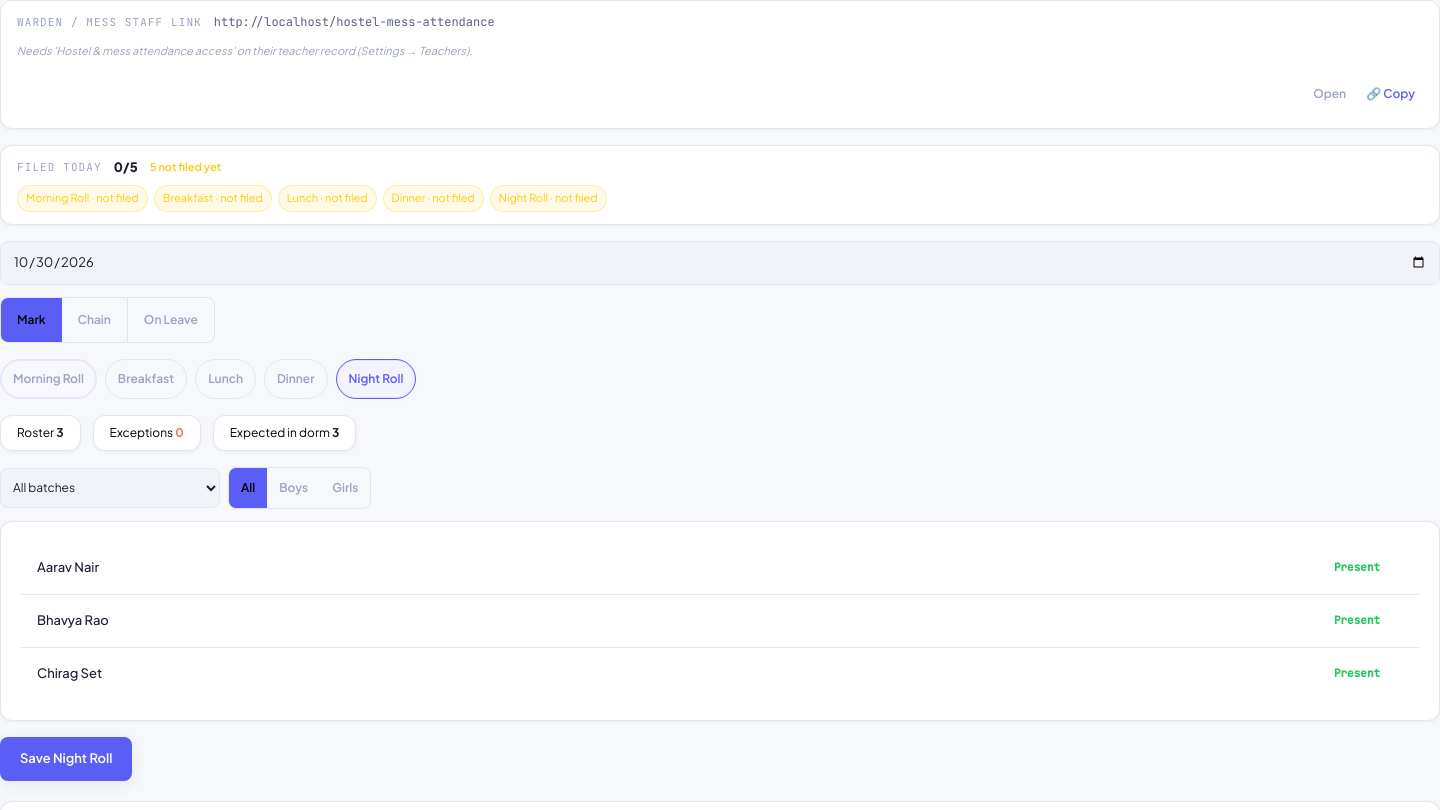
Test: HostelTab — on-leave panel › shows an empty state when no boarder is on leave
This screenshot has width=1440, height=810.
Check: the button "Aarav Nair" is shown, box [37,558,99,577]
Click the button "On Leave" at (170, 320), box [127,298,214,342]
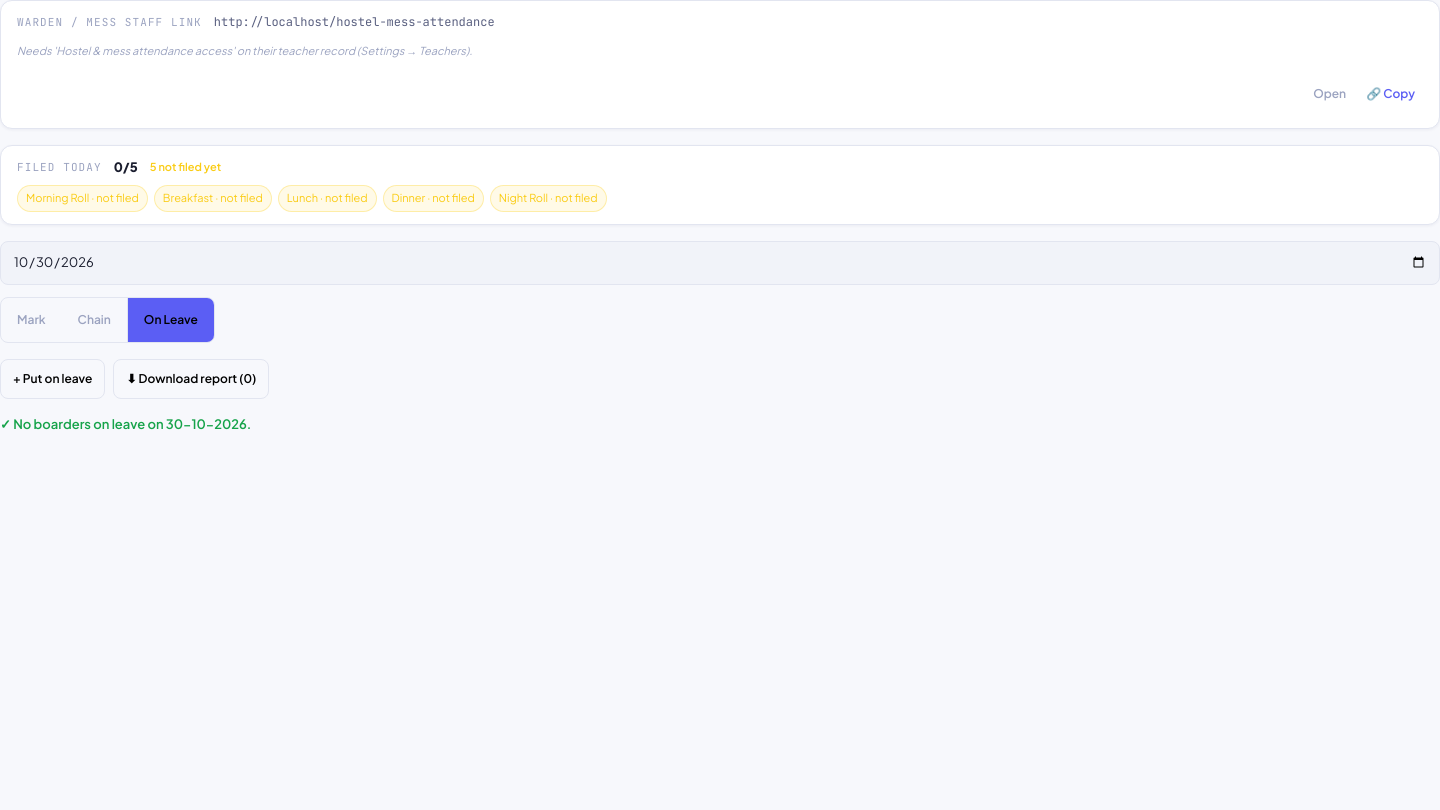
Check: the text "✓ No boarders on leave on 30-10-2026." is shown, box [0,416,251,432]
